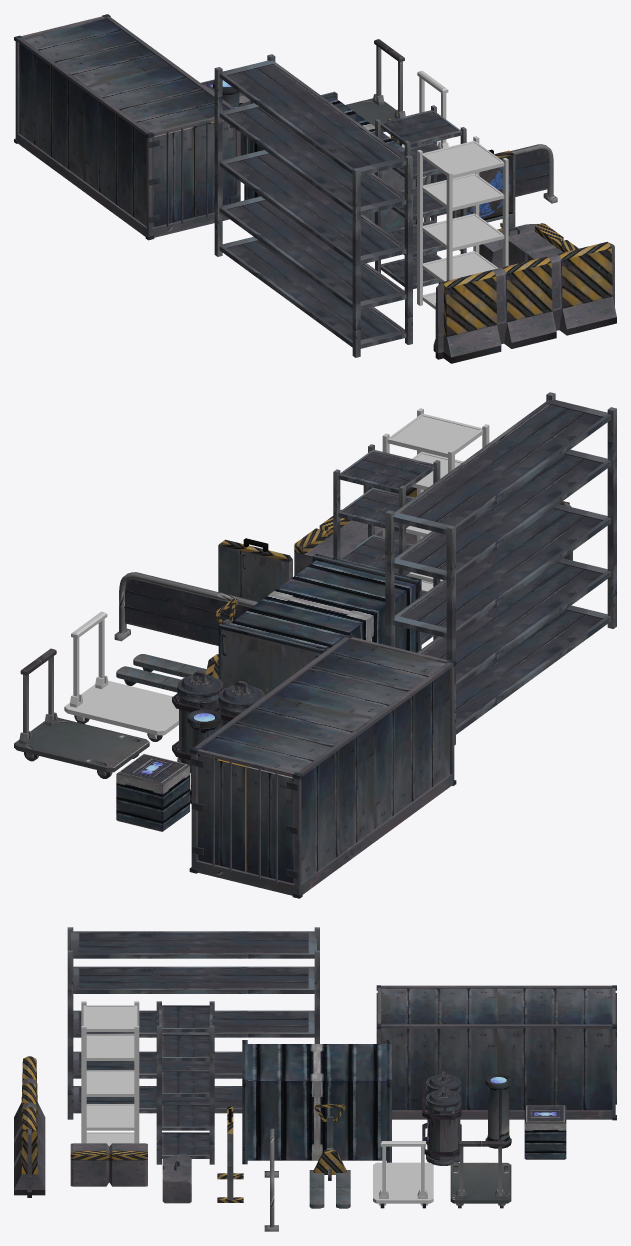
Rendered from Saving_construction.fbx.
The picture shows the model from 3 angles, top to bottom: view 1: azimuth 30°, elevation 25°; view 2: azimuth 150°, elevation 25°; view 3: azimuth 270°, elevation 25°; orthographic projection. The views are drawn at different scales.
Visible parts, largest first — view 1: 木櫃.002, containerRed_containerRed.001, Cube.031, 木櫃.003, 木櫃.001, Plane.027, Cube.042, Cube.013, Cube.006, Cube.033, KB3D_DMZ_RocketLauncher_A_ConcreteBarricadeC, Cube.003; view 2: containerRed_containerRed.001, 木櫃.002, Cube.042, 木櫃.001, Plane.027, Cube.013, Cube.003, Cube.021, 木櫃.003, Cube.033, KB3D_MTM_PropCargo_C_Main.007, Cylinder.017 (+2 smaller); view 3: containerRed_containerRed.001, 木櫃.002, Cube.042, 木櫃.001, 木櫃.003, Cube.031, Cube.006, KB3D_MTM_PropCargo_C_Main.007, Cube.013, Cube.003, Cube.021, Cylinder.017 (+4 smaller).
Boxes of the visible parts, x1,y1,x2,y2 form: 木櫃.002: (214, 54, 412, 357); containerRed_containerRed.001: (14, 14, 240, 240); Cube.031: (433, 242, 616, 363); 木櫃.003: (417, 136, 508, 309); 木櫃.001: (375, 105, 466, 290); Plane.027: (423, 144, 557, 221); Cube.042: (244, 91, 416, 231); Cube.013: (345, 39, 405, 132); Cube.006: (508, 223, 578, 265); Cube.033: (452, 149, 515, 250); KB3D_DMZ_RocketLauncher_A_ConcreteBarricadeC: (479, 224, 537, 267); Cube.003: (389, 70, 448, 148); containerRed_containerRed.001: (189, 634, 456, 898); 木櫃.002: (385, 392, 616, 745); Cube.042: (218, 553, 421, 695); 木櫃.001: (333, 444, 440, 644); Plane.027: (114, 572, 257, 645); Cube.013: (14, 648, 149, 778); Cube.003: (64, 611, 178, 741); Cube.021: (116, 754, 189, 831); 木櫃.003: (382, 408, 489, 591); Cube.033: (218, 538, 292, 602); KB3D_MTM_PropCargo_C_Main.007: (172, 670, 264, 772); Cylinder.017: (116, 598, 237, 692); containerRed_containerRed.001: (376, 985, 616, 1120); 木櫃.002: (67, 927, 319, 1119); Cube.042: (242, 1040, 391, 1164); 木櫃.001: (156, 1001, 214, 1164); 木櫃.003: (81, 1001, 139, 1146); Cube.031: (14, 1056, 45, 1197); Cube.006: (70, 1143, 147, 1186); KB3D_MTM_PropCargo_C_Main.007: (422, 1071, 461, 1165); Cube.013: (450, 1141, 511, 1208); Cube.003: (373, 1141, 433, 1208); Cube.021: (524, 1105, 566, 1159); Cylinder.017: (309, 1104, 350, 1208).
Size of the model in its own units: 14.4 by 7.44 by 24.19.
